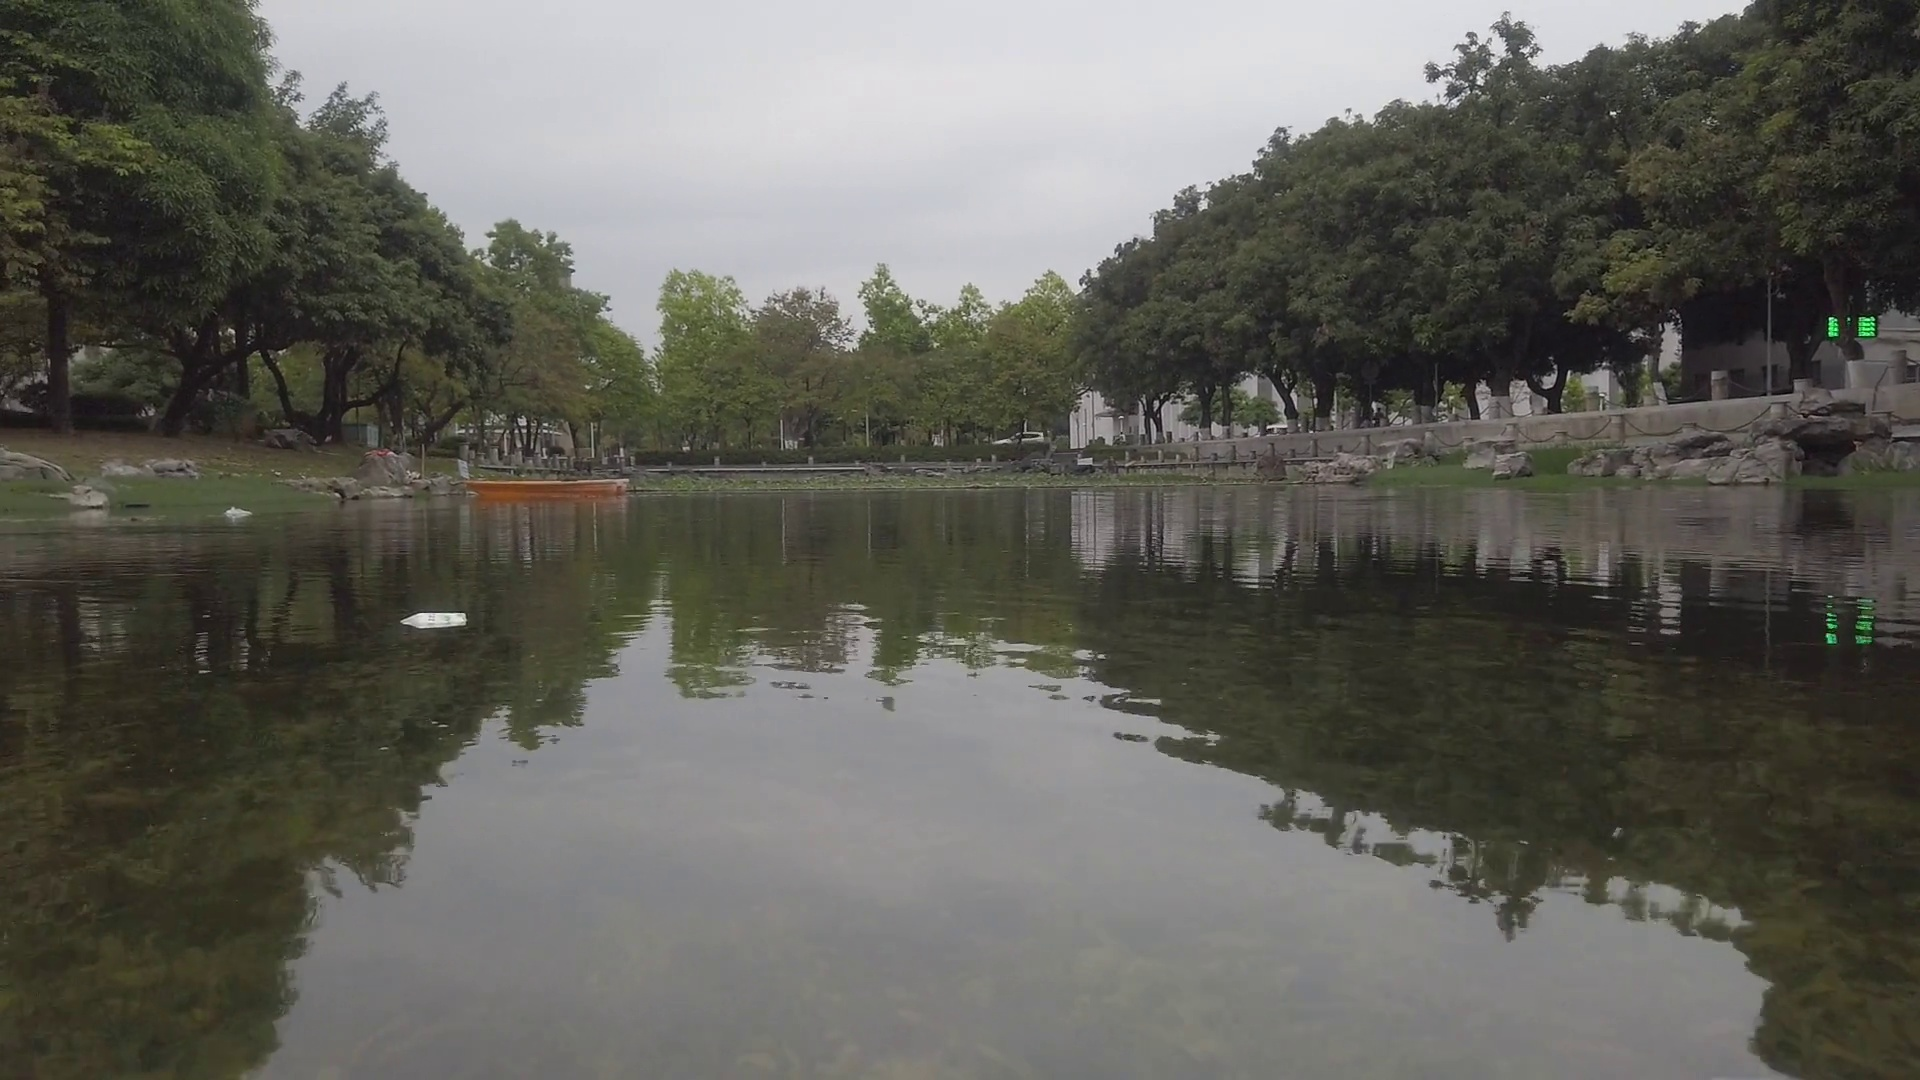paper: (407, 609, 469, 628)
plastic: (225, 506, 252, 516)
